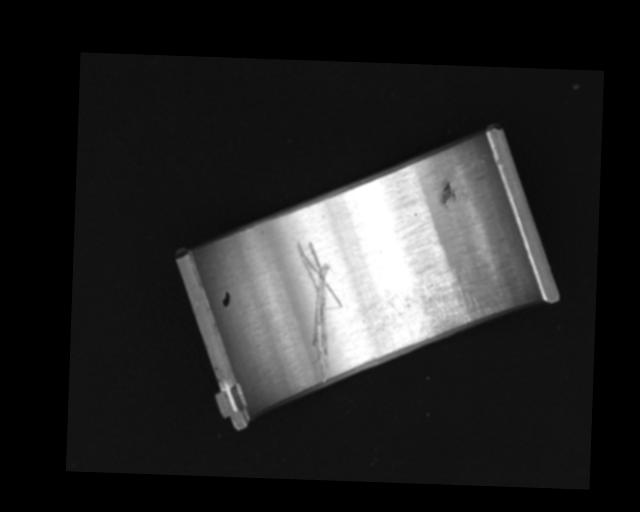blot: (221, 289, 231, 307)
bruise: (438, 179, 458, 207)
nick: (290, 240, 344, 384)
scratch: (374, 260, 496, 351)
